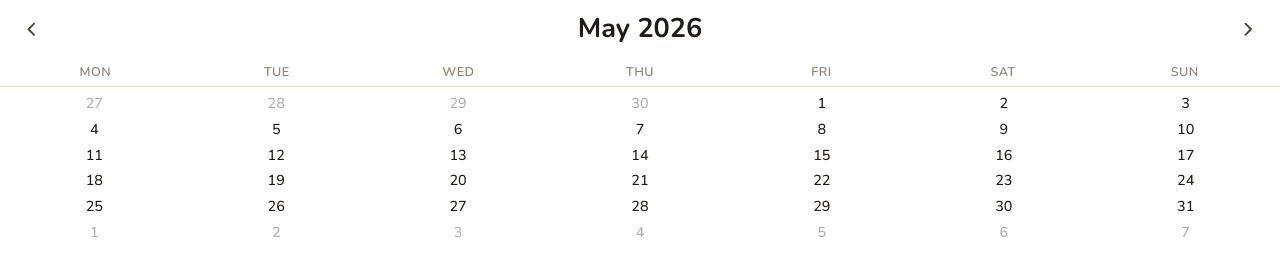
MonthView — navigation › clicking Previous month changes the title
Expected: the heading with class "month-view__title" shows "2026", [578,10,702,47]
Click the button named "Previous month".
click(32, 29)  # box [14,11,50,47]
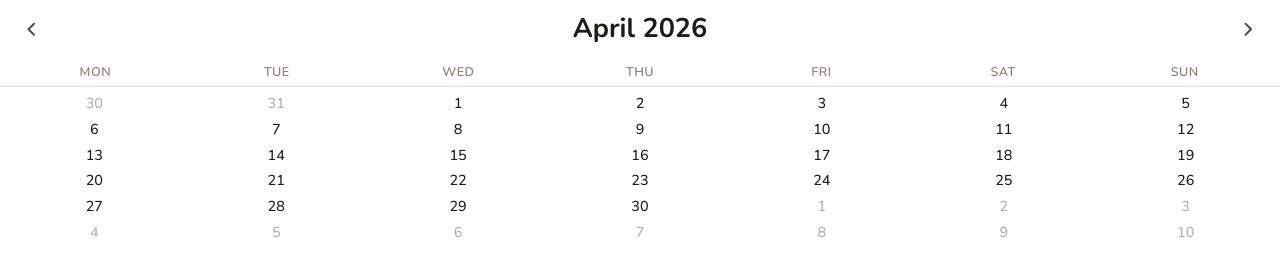
Result: the heading with class "month-view__title" reads "April 2026" at [573,10,707,47]
